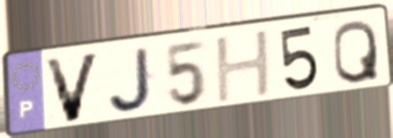5: (161, 37, 212, 109), (277, 23, 320, 93)
H: (212, 26, 275, 107)
J: (105, 44, 158, 116)
Q: (331, 17, 382, 86)
V: (41, 50, 104, 126)
